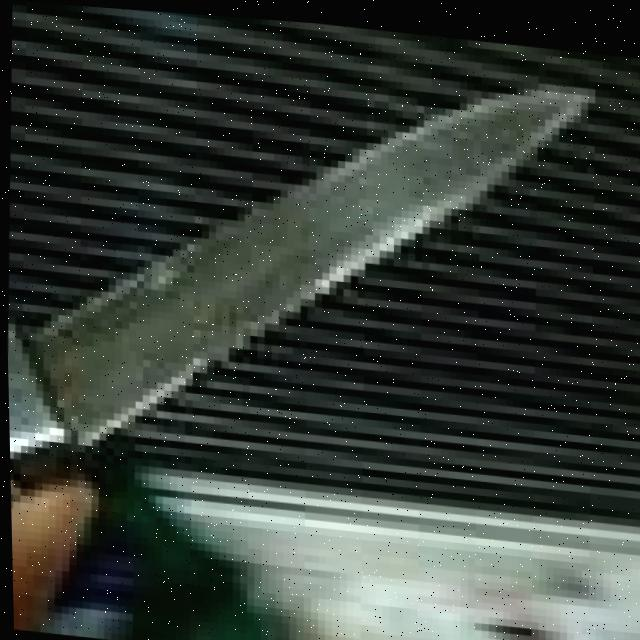knife: (0, 0, 596, 569)
